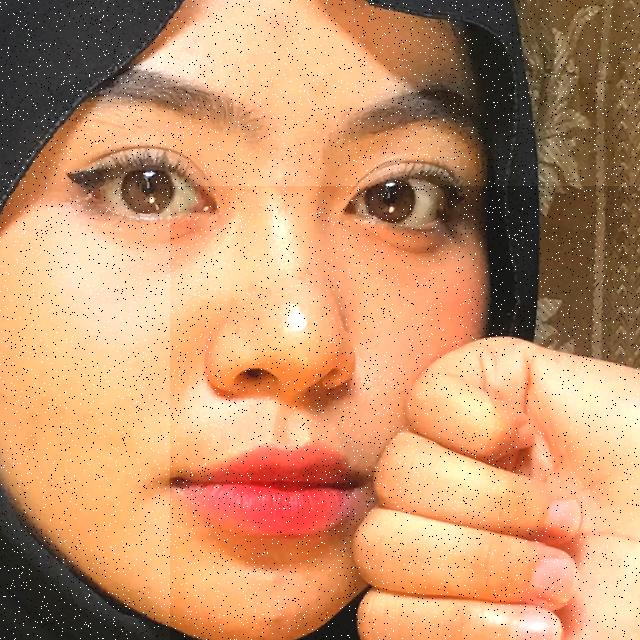sedih: (170, 186, 640, 640)
